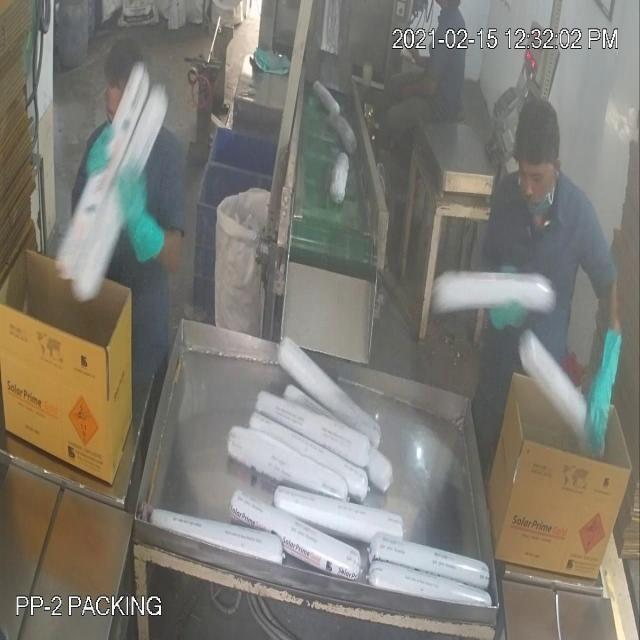Gloves: (44, 58, 602, 386)
